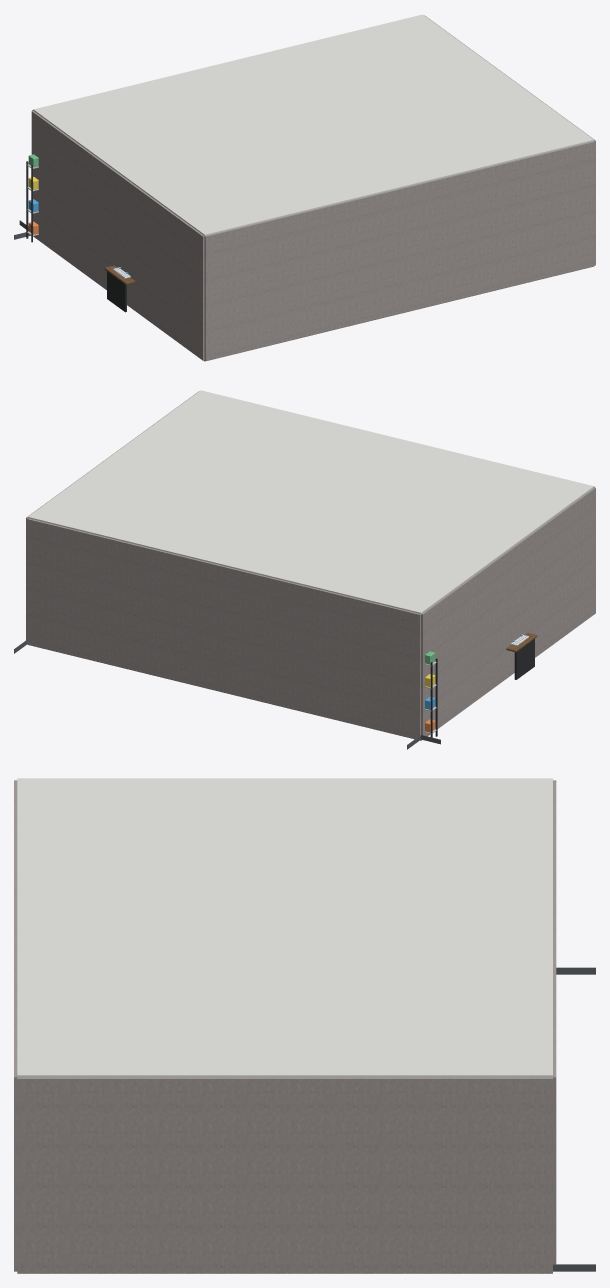
The model's file is makerspace_room.glb.
The picture shows the model from 3 angles, top to bottom: view 1: azimuth 30°, elevation 25°; view 2: azimuth 150°, elevation 25°; view 3: azimuth 270°, elevation 25°; orthographic projection. The views are drawn at different scales.
Parts seen in each view (by area): view 1: ceiling, wall_front, wall_left, access_table_leg_-4.2; view 2: ceiling, wall_back, wall_left, access_table_leg_-4.2; view 3: ceiling, wall_right, wall_front, wall_back.
Boxes of the visible parts, bbox=[...] form: ceiling: bbox=[33, 14, 593, 235]; wall_front: bbox=[204, 141, 595, 360]; wall_left: bbox=[31, 110, 204, 360]; access_table_leg_-4.2: bbox=[107, 271, 126, 312]; ceiling: bbox=[28, 390, 593, 613]; wall_back: bbox=[26, 518, 420, 738]; wall_left: bbox=[421, 487, 595, 739]; access_table_leg_-4.2: bbox=[514, 639, 534, 679]; ceiling: bbox=[17, 778, 552, 1077]; wall_right: bbox=[17, 1077, 552, 1272]; wall_front: bbox=[14, 780, 17, 1271]; wall_back: bbox=[553, 780, 556, 1264].
Size of the model in its own units: 67.12 by 19.79 by 52.66.
Materials: 52 (4 with a texture image).
